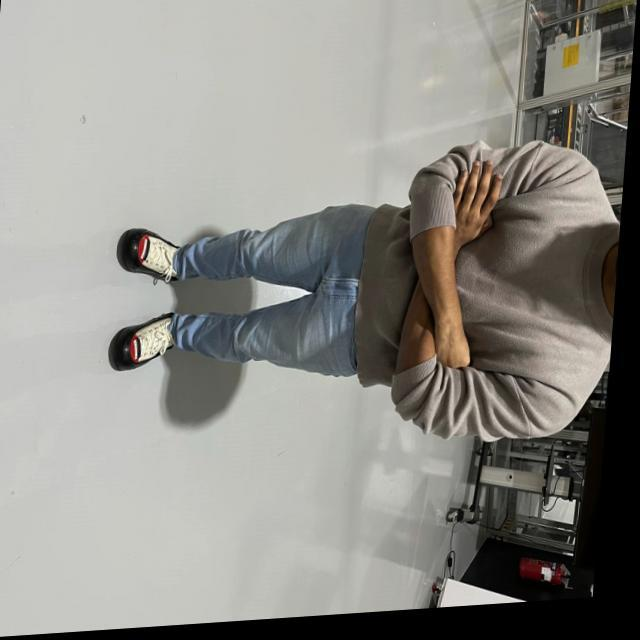shoes: (98, 298, 188, 377), (97, 219, 195, 290)
